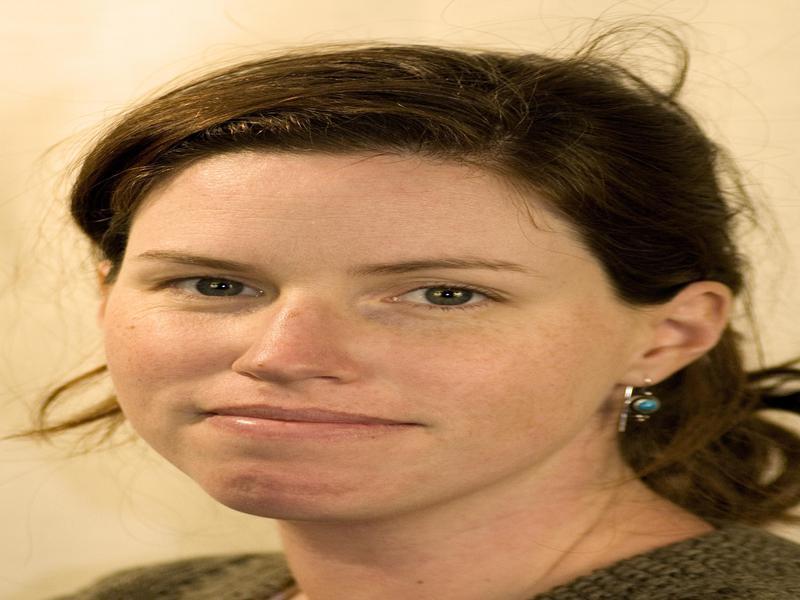person: (38, 33, 800, 599)
